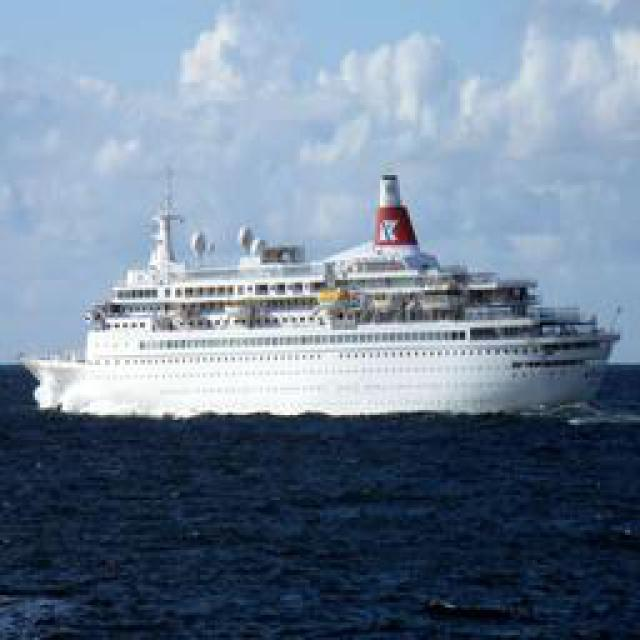Ship: (34, 170, 614, 423)
